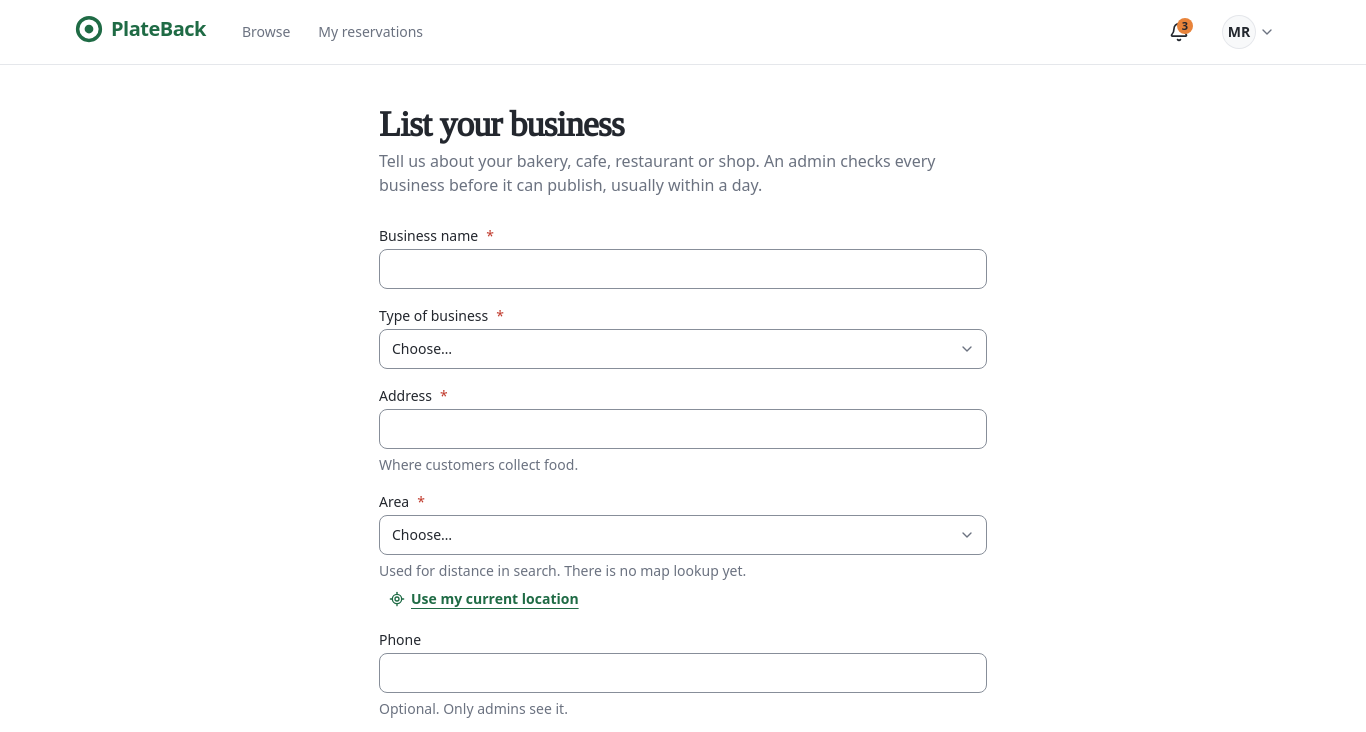
Test: CreateOrganizationPage › submits a business, which starts pending, and opens its dashboard
Expected: the heading "List your business" is shown, x1=379 y1=105 x2=624 y2=145
In the field labelled "Business name *": x=683, y=269 x1=379 y1=249 x2=987 y2=289, type "Maya's Momo"
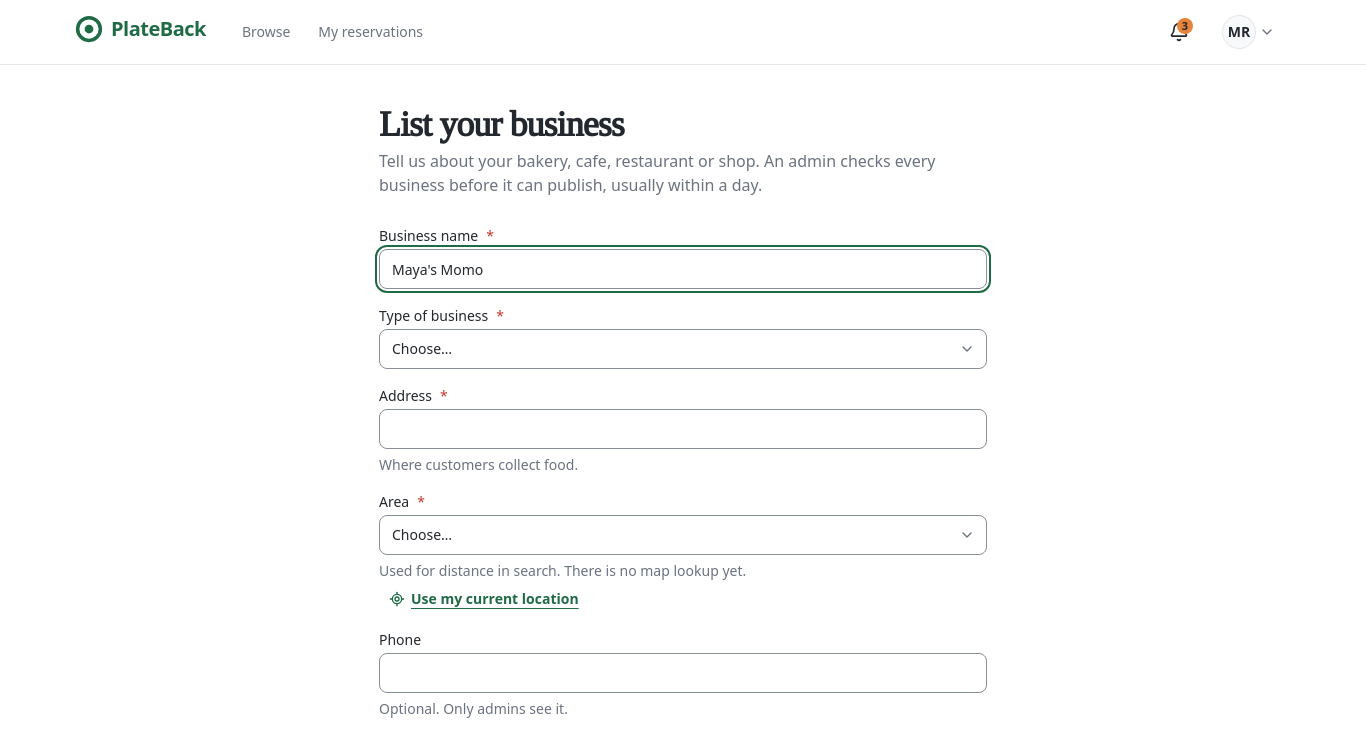
Select "Restaurant" in the dropdown labelled "Type of business *": x=683, y=349 x1=379 y1=329 x2=987 y2=369
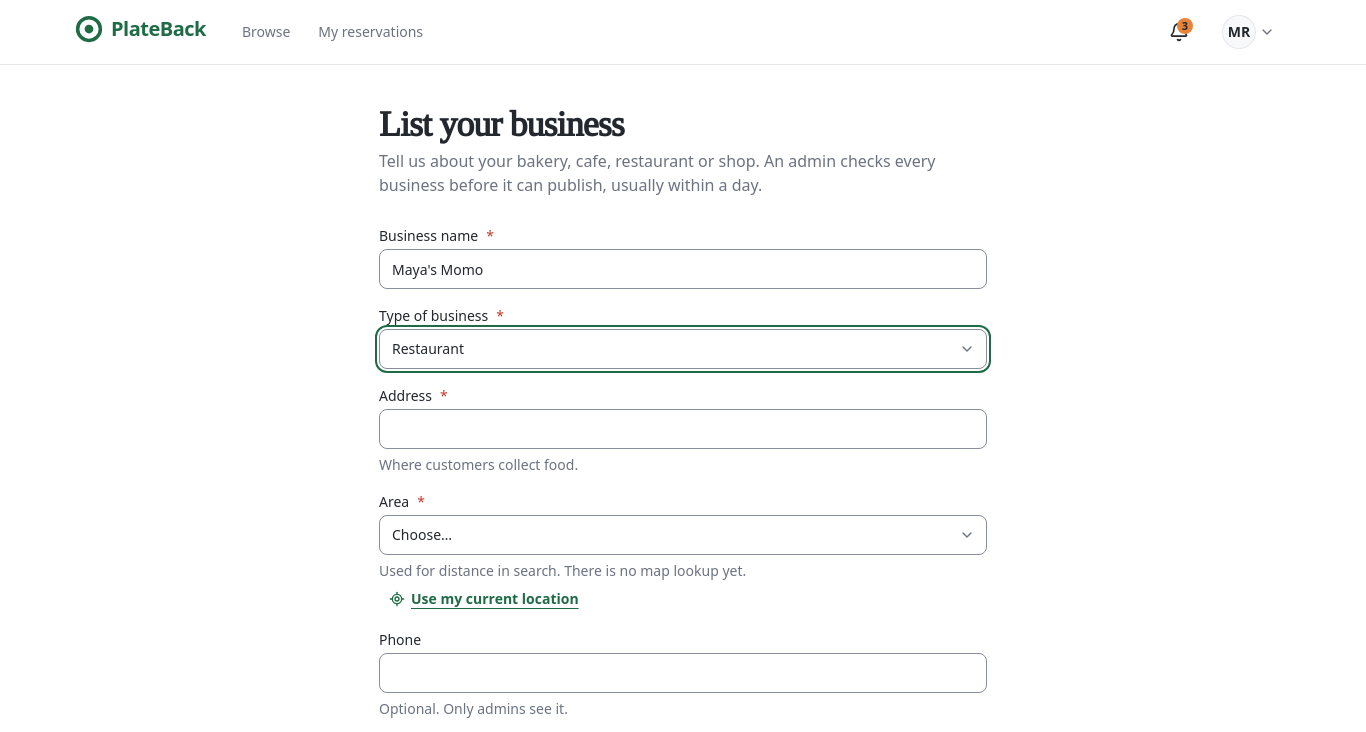
In the field labelled "Address *": x=683, y=429 x1=379 y1=409 x2=987 y2=449, type "Jhochhen Tole, Kathmandu"
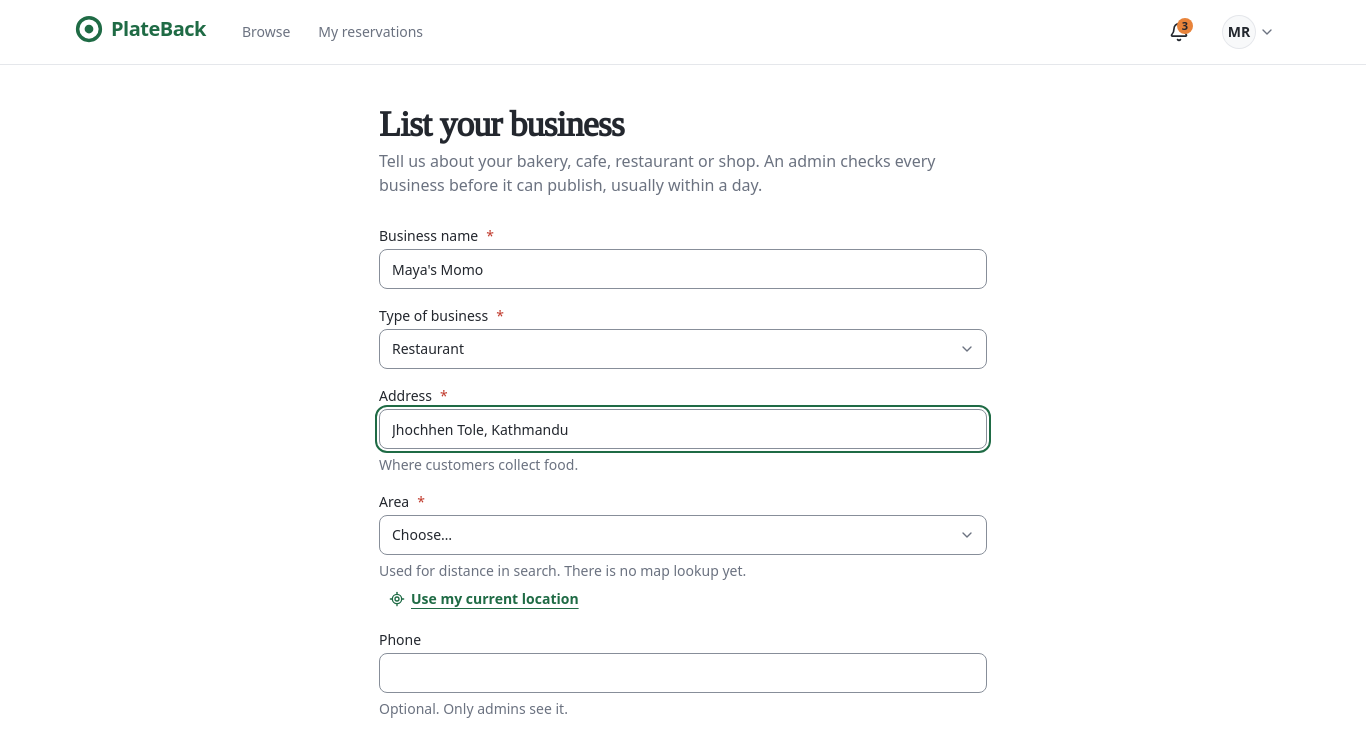
Select "Thamel, Kathmandu" in the dropdown labelled "Area *": x=683, y=535 x1=379 y1=515 x2=987 y2=555
(page scrolled)
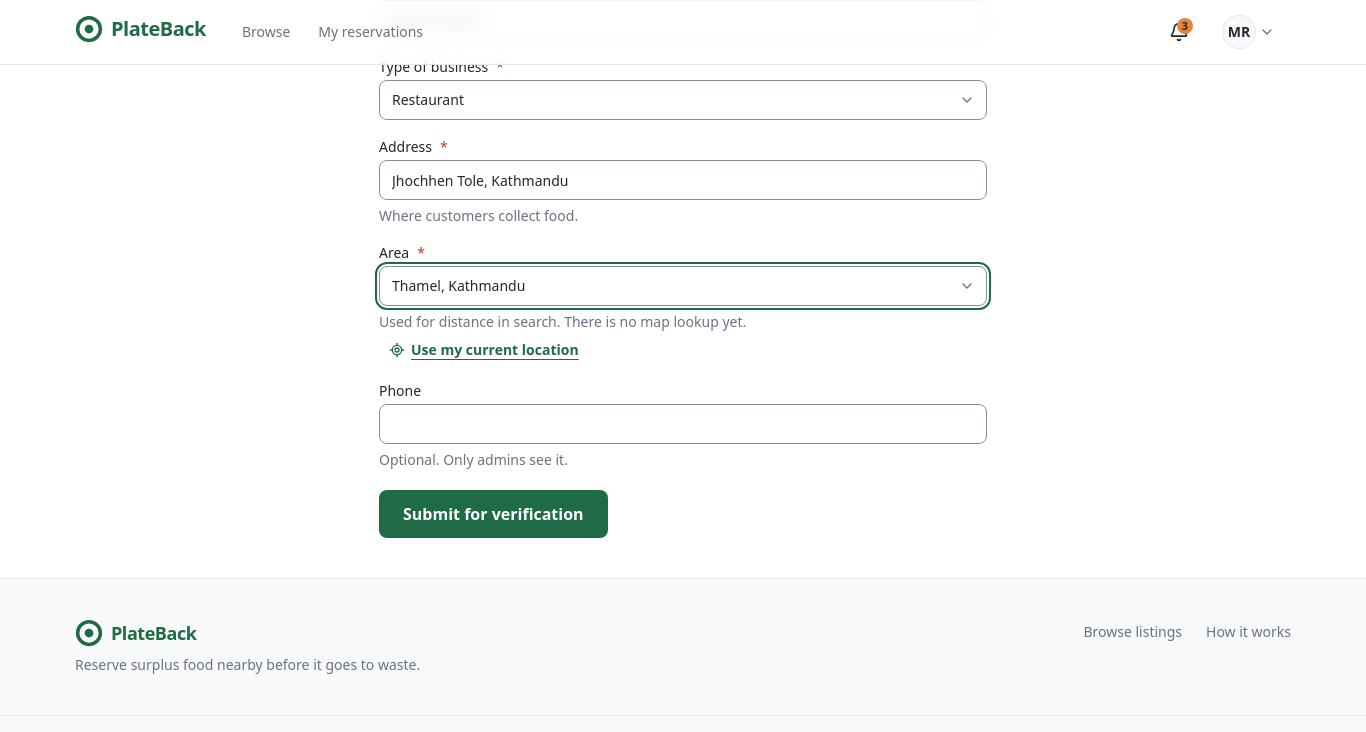
Click the button "Submit for verification": x=493, y=514 x1=379 y1=490 x2=608 y2=538
(page scrolled)
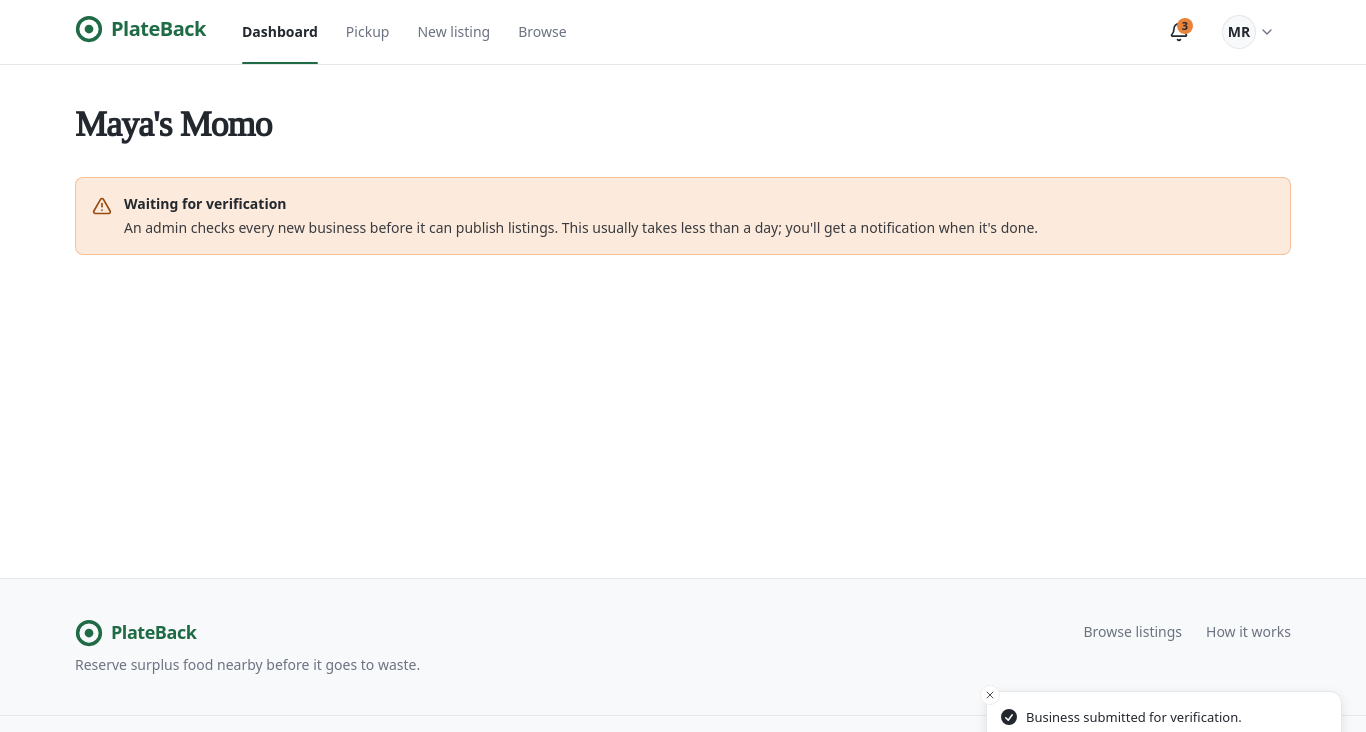
Expected: the text "Business submitted for verification." is shown, x1=1026 y1=708 x2=1242 y2=727
